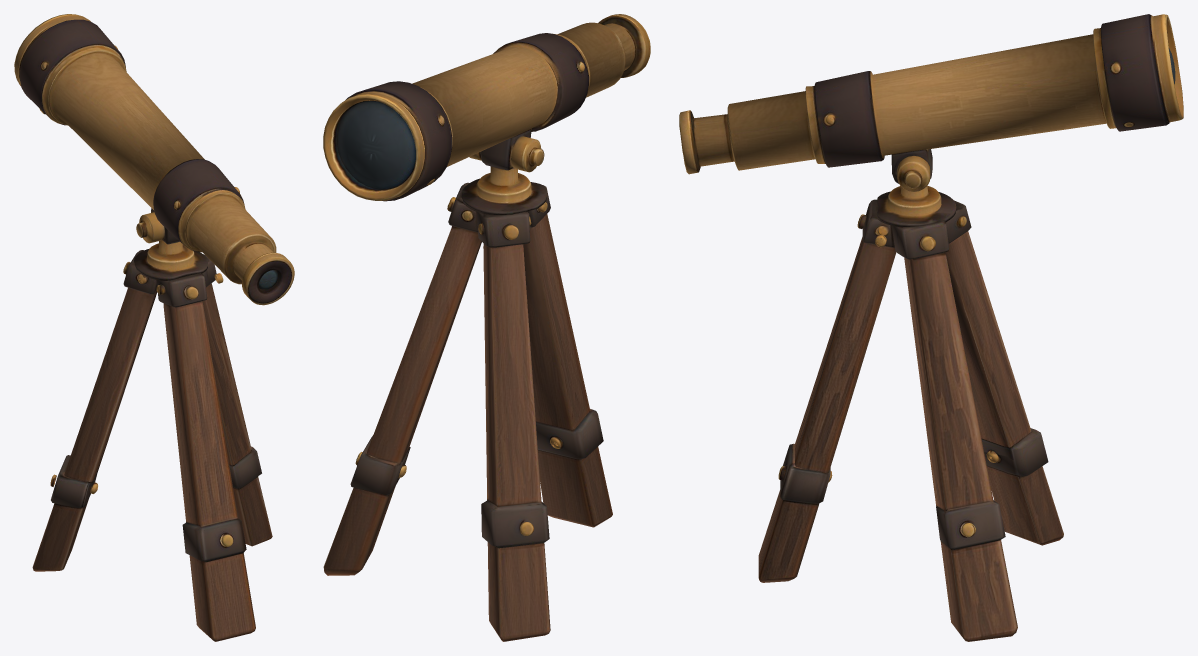
Rendered from telescope.glb.
3 renders of one model, left to right at view 1: azimuth 30°, elevation 25°; view 2: azimuth 150°, elevation 25°; view 3: azimuth 270°, elevation 25°, orthographic. The views are drawn at different scales.
Visible parts, largest first — view 1: tripo_node_79ba0210-a623-4169-9b84-4da1a50b66ba; view 2: tripo_node_79ba0210-a623-4169-9b84-4da1a50b66ba; view 3: tripo_node_79ba0210-a623-4169-9b84-4da1a50b66ba.
Boxes of the visible parts, x1,y1,x2,y2 form: tripo_node_79ba0210-a623-4169-9b84-4da1a50b66ba: (14, 14, 294, 641); tripo_node_79ba0210-a623-4169-9b84-4da1a50b66ba: (323, 14, 650, 641); tripo_node_79ba0210-a623-4169-9b84-4da1a50b66ba: (679, 14, 1183, 641).
Size of the model in its own units: 0.4526 by 0.9995 by 0.8218.
Materials: 1 (1 with a texture image).
